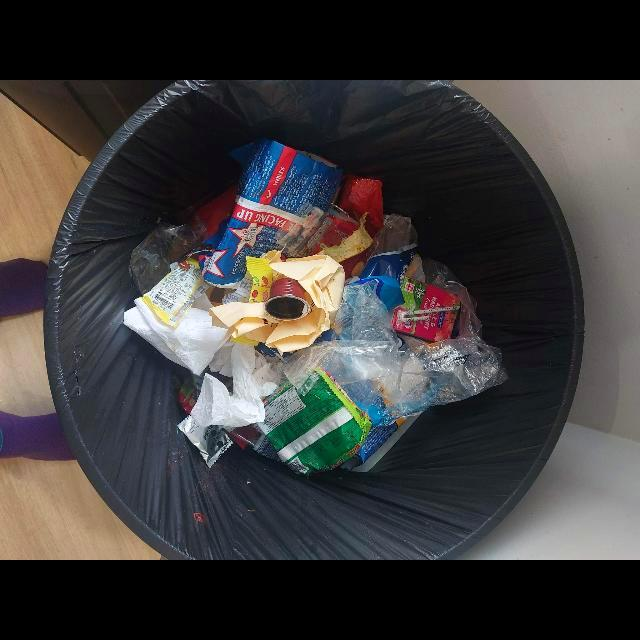food_wrapper: (199, 138, 343, 289), (253, 371, 372, 476), (142, 258, 204, 328), (177, 415, 233, 469), (222, 256, 273, 304)
paper: (208, 255, 345, 355), (123, 297, 228, 376), (190, 343, 278, 428)
plastic_container: (263, 278, 310, 321)
